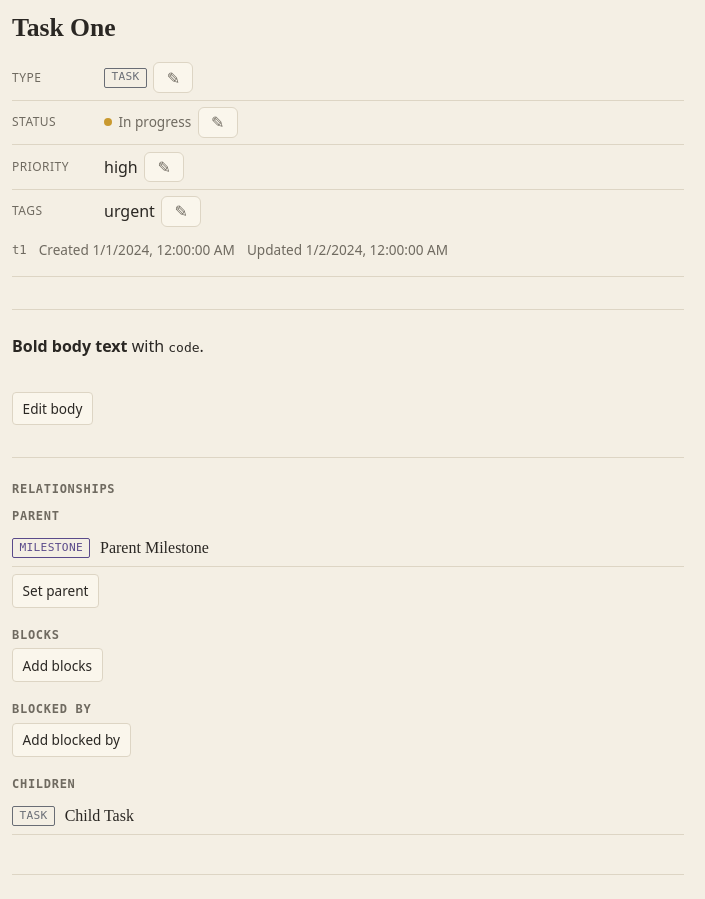
Test: BeanDetailPage › does not mutate when committing the title without changes
Click the button "Task One": (64, 28) top-left (12, 12), bottom-right (684, 44)
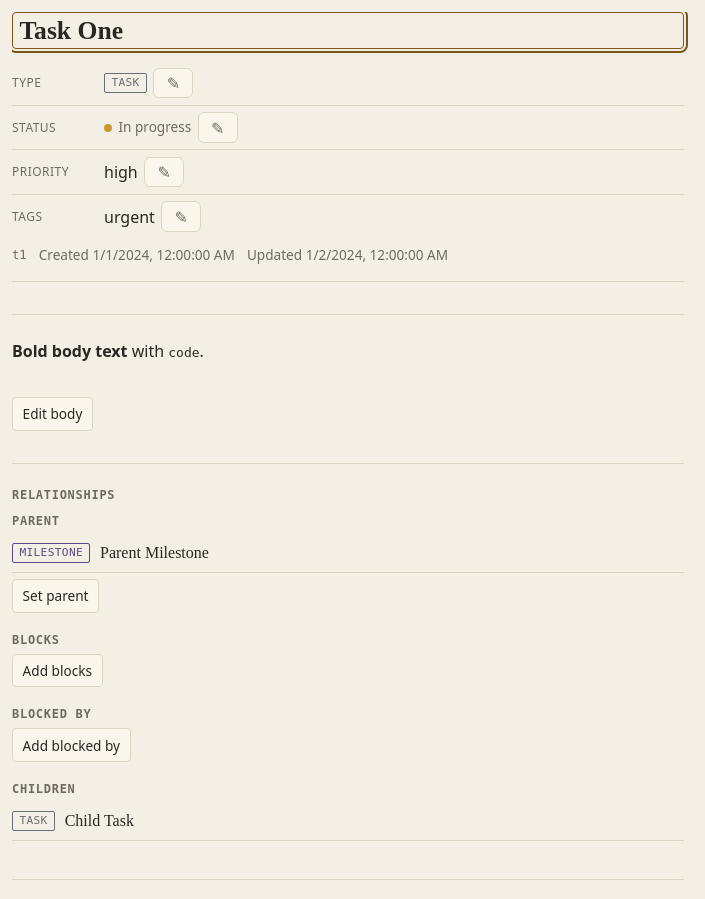
Press Enter
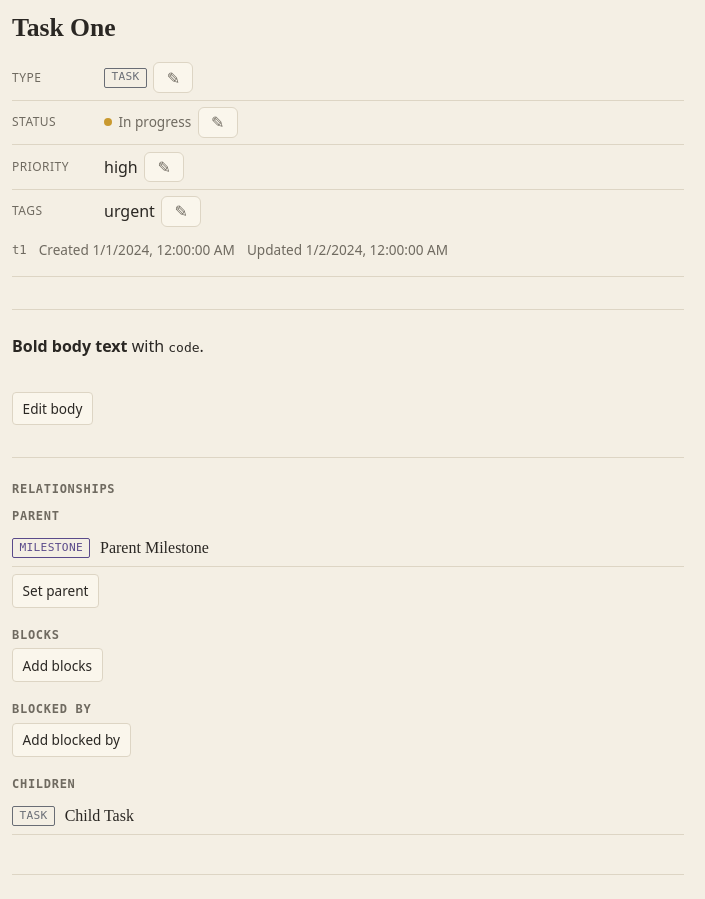
expect the button "Task One" is shown: met, box top-left (12, 12), bottom-right (684, 44)
